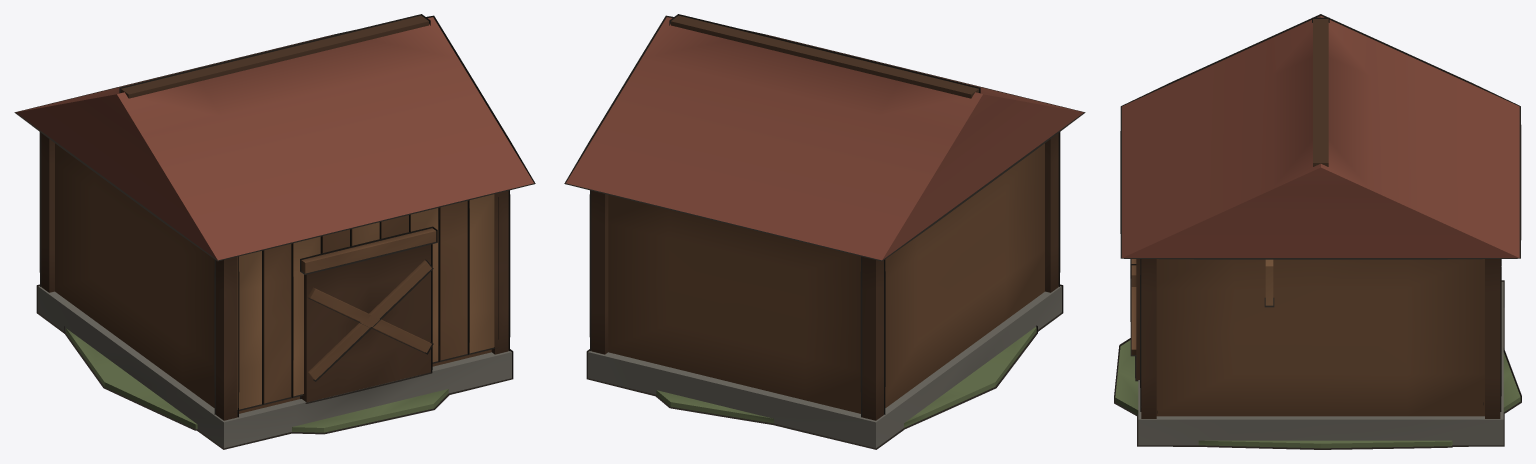
The model's file is grange.glb.
3 renders of one model, left to right at view 1: azimuth 30°, elevation 25°; view 2: azimuth 150°, elevation 25°; view 3: azimuth 270°, elevation 25°, orthographic.
Parts seen in each view (by area): view 1: grange, grange_outline; view 2: grange, grange_outline; view 3: grange, grange_outline.
Boxes of the visible parts, <box> form: grange: <box>16,15,533,448</box>; grange_outline: <box>14,14,535,449</box>; grange: <box>566,15,1083,448</box>; grange_outline: <box>564,14,1085,449</box>; grange: <box>1115,16,1520,448</box>; grange_outline: <box>1114,14,1521,449</box>.
Size of the model in its own units: 2.93 by 2.48 by 3.18.
